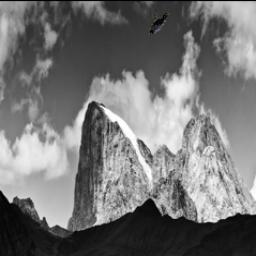Crow: (148, 12, 169, 34)
